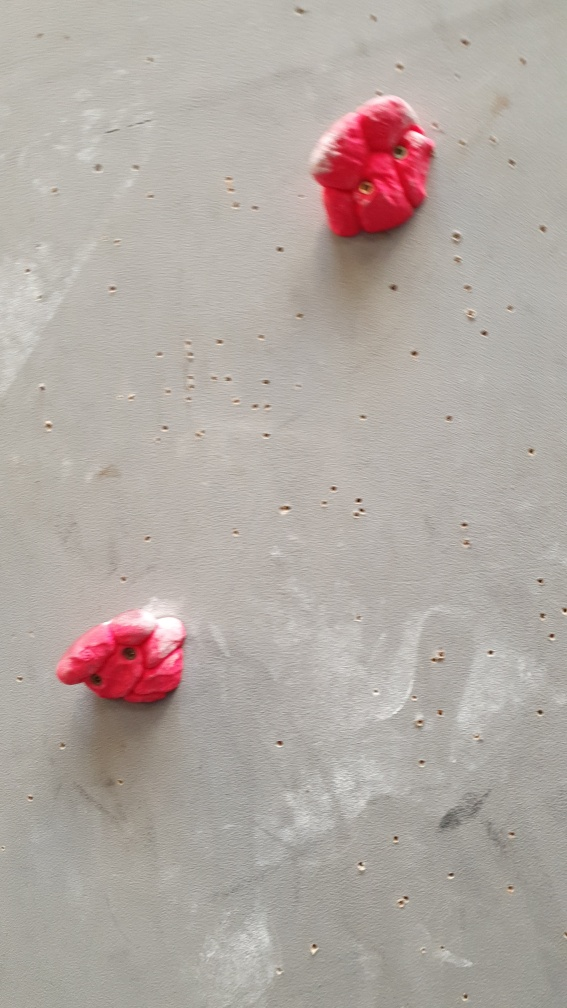Jug: (306, 94, 441, 241), (55, 607, 186, 709)
